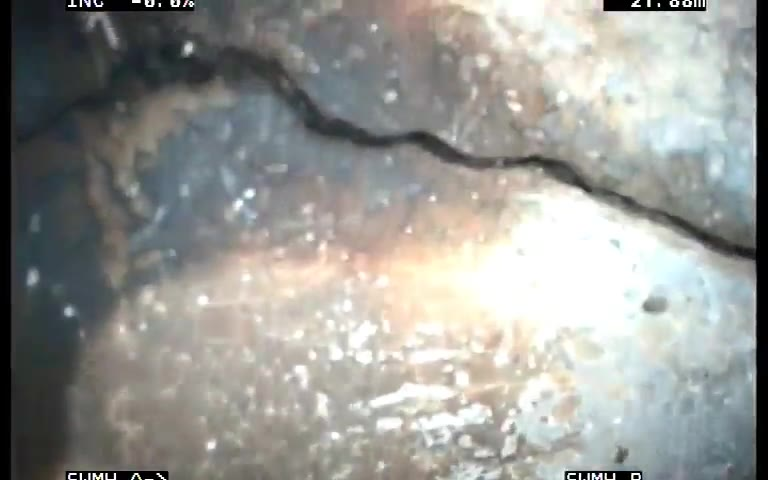Crack: (16, 14, 768, 274)
